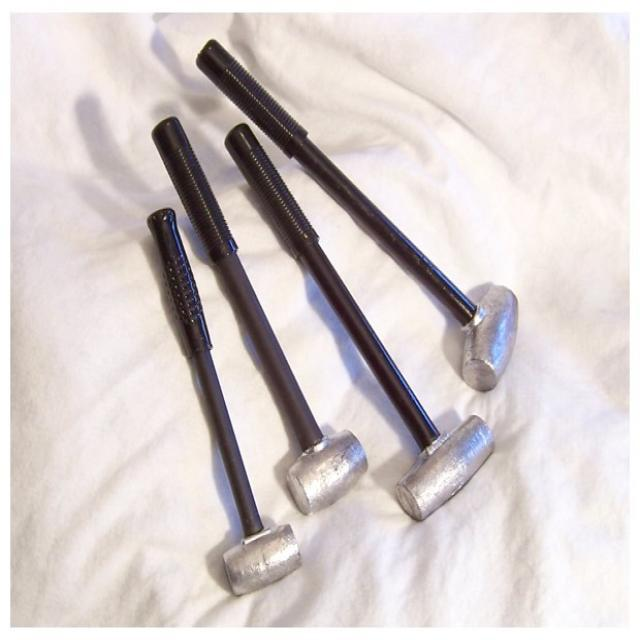hammer: (194, 31, 526, 402), (224, 117, 502, 534), (146, 112, 380, 526), (119, 195, 308, 602)
